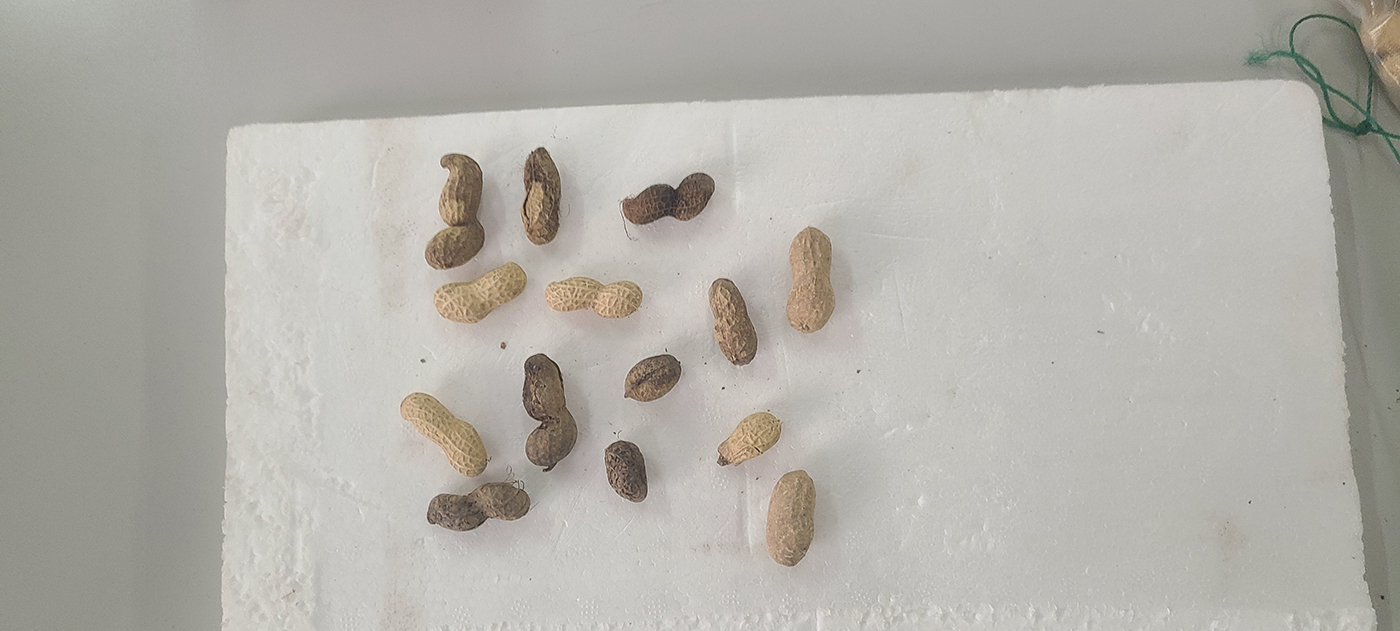h: (399, 393, 488, 476), (432, 262, 527, 324), (785, 224, 836, 333), (764, 469, 816, 566), (545, 276, 644, 317), (718, 411, 781, 466)
l: (423, 153, 485, 270), (521, 353, 577, 467), (619, 172, 716, 226), (427, 482, 531, 532), (708, 278, 759, 366), (522, 146, 562, 244), (605, 439, 648, 504), (624, 354, 681, 402)
